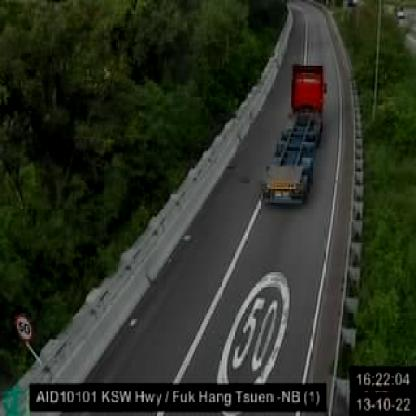Truck: (260, 62, 326, 208)
